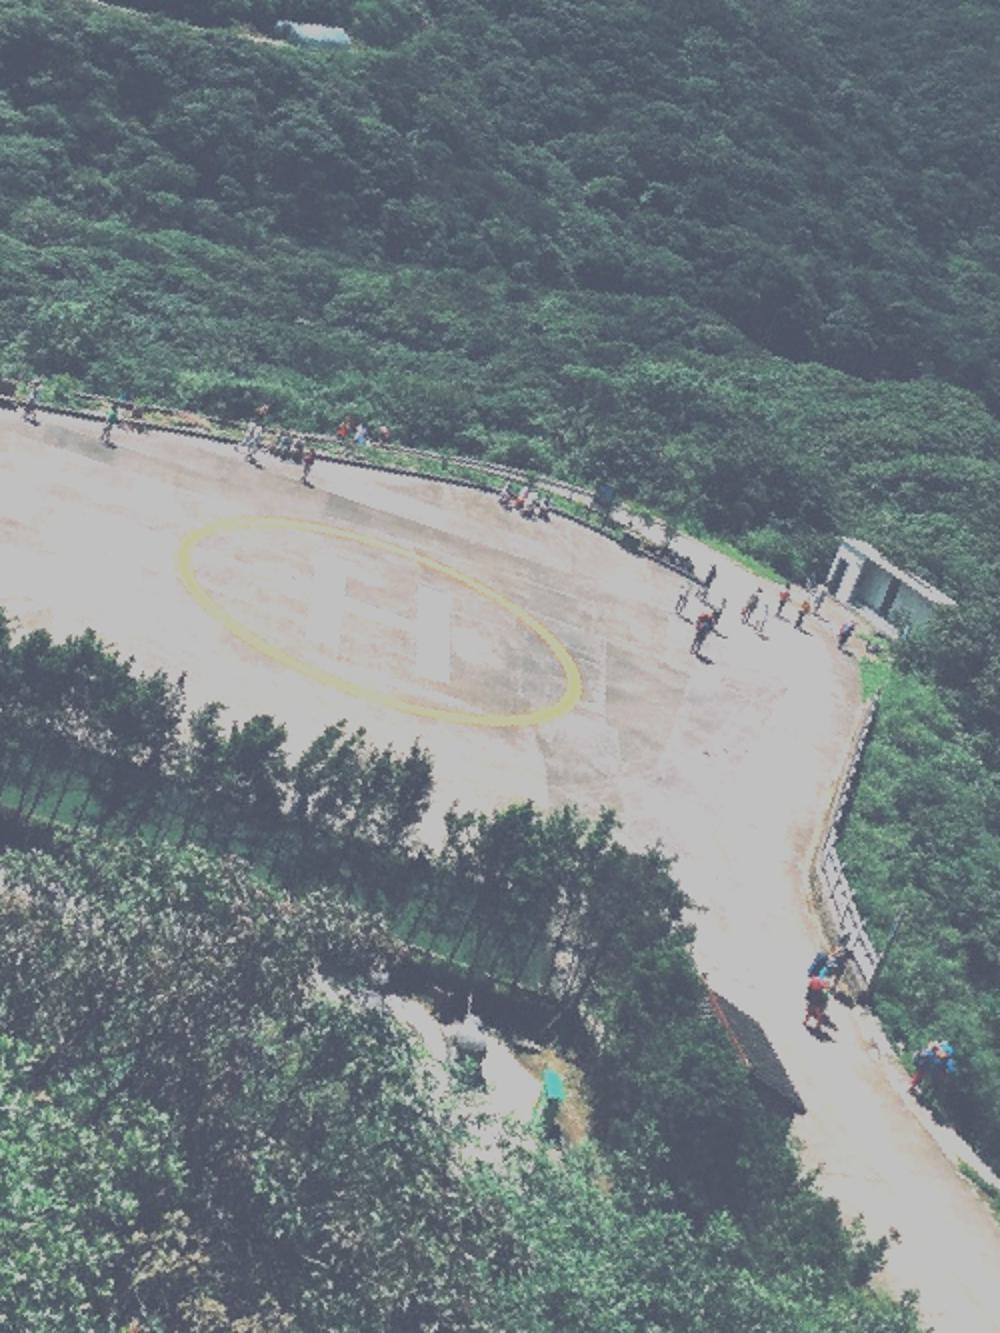Apron: (153, 491, 590, 736)
